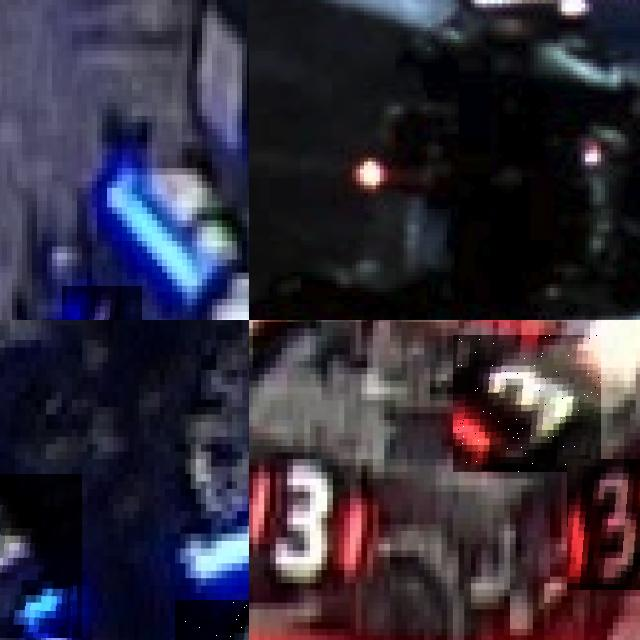B1: (0, 474, 82, 637)
B4: (62, 285, 142, 320)
R3: (453, 335, 601, 472), (249, 433, 372, 583), (567, 459, 640, 589)
